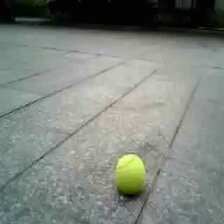tennis: (112, 154, 147, 197)
